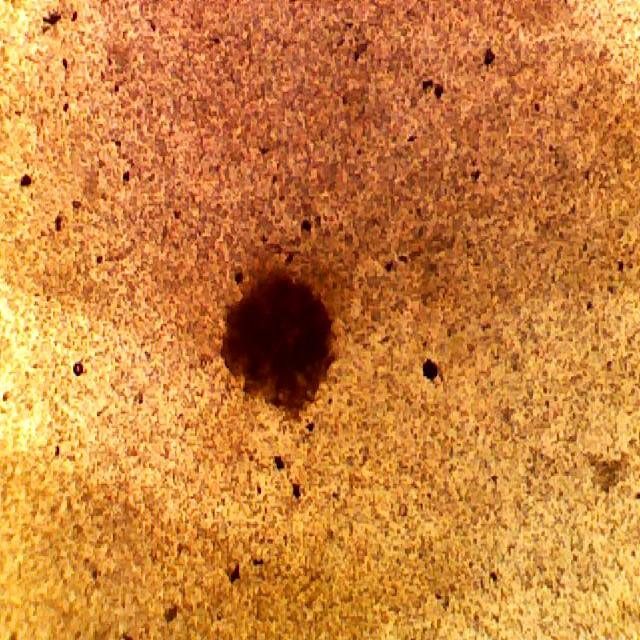fragment: (204, 265, 342, 420)
